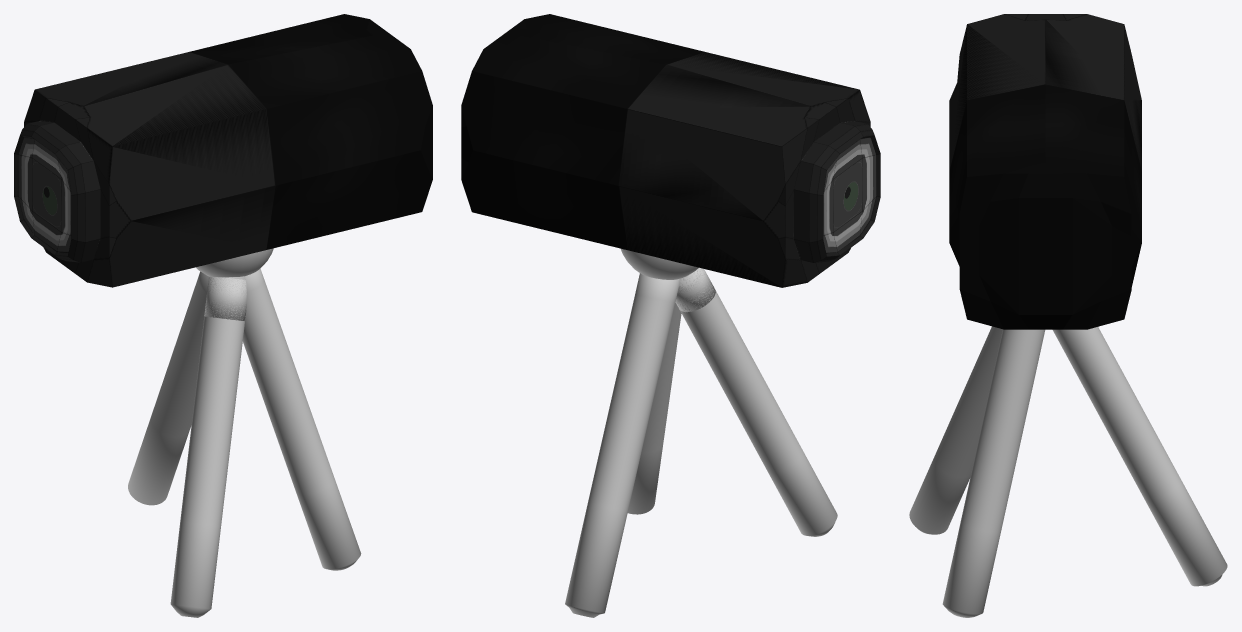
Rendered from IFB399-Tex-Camera.obj.
The picture shows the model from 3 angles, left to right: view 1: azimuth 30°, elevation 25°; view 2: azimuth 150°, elevation 25°; view 3: azimuth 270°, elevation 25°; orthographic projection.
Parts seen in each view (by area): view 1: Camera_Cube, Leg1_Cylinder, Leg3_Cylinder.002, Leg2_Cylinder.001, Connector_Sphere; view 2: Camera_Cube, Leg2_Cylinder.001, Leg1_Cylinder, Leg3_Cylinder.002, Connector_Sphere; view 3: Camera_Cube, Leg3_Cylinder.002, Leg2_Cylinder.001, Leg1_Cylinder.
Part boxes in pixels (left/top/right/bottom): Camera_Cube: left=14, top=14, right=432, bottom=287; Leg1_Cylinder: left=170, top=276, right=246, bottom=617; Leg3_Cylinder.002: left=242, top=268, right=361, bottom=570; Leg2_Cylinder.001: left=128, top=271, right=208, bottom=505; Connector_Sphere: left=196, top=248, right=273, bottom=277; Camera_Cube: left=461, top=14, right=880, bottom=287; Leg2_Cylinder.001: left=565, top=273, right=680, bottom=617; Leg1_Cylinder: left=675, top=267, right=837, bottom=536; Leg3_Cylinder.002: left=627, top=302, right=681, bottom=514; Connector_Sphere: left=621, top=248, right=698, bottom=279; Camera_Cube: left=949, top=14, right=1141, bottom=329; Leg3_Cylinder.002: left=942, top=329, right=1045, bottom=617; Leg2_Cylinder.001: left=1052, top=327, right=1227, bottom=586; Leg1_Cylinder: left=909, top=326, right=1002, bottom=534.
Size of the model in its own units: 1.49 by 1.97 by 1.14.
